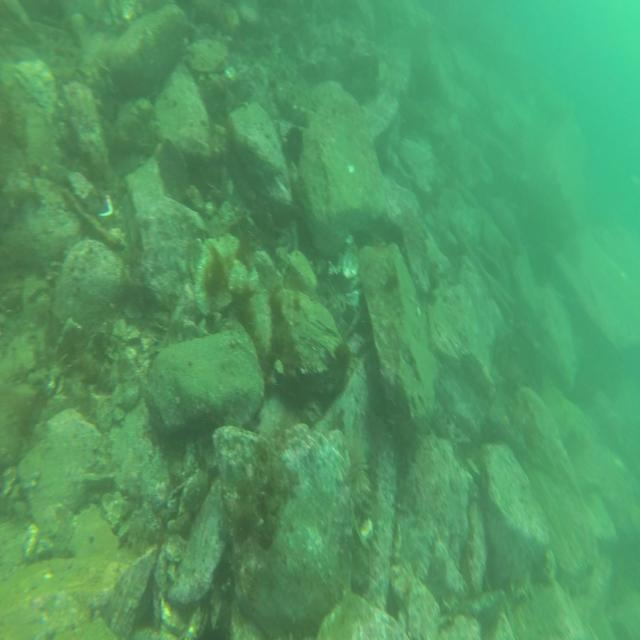echinus: (348, 441, 372, 506), (284, 128, 306, 165)
